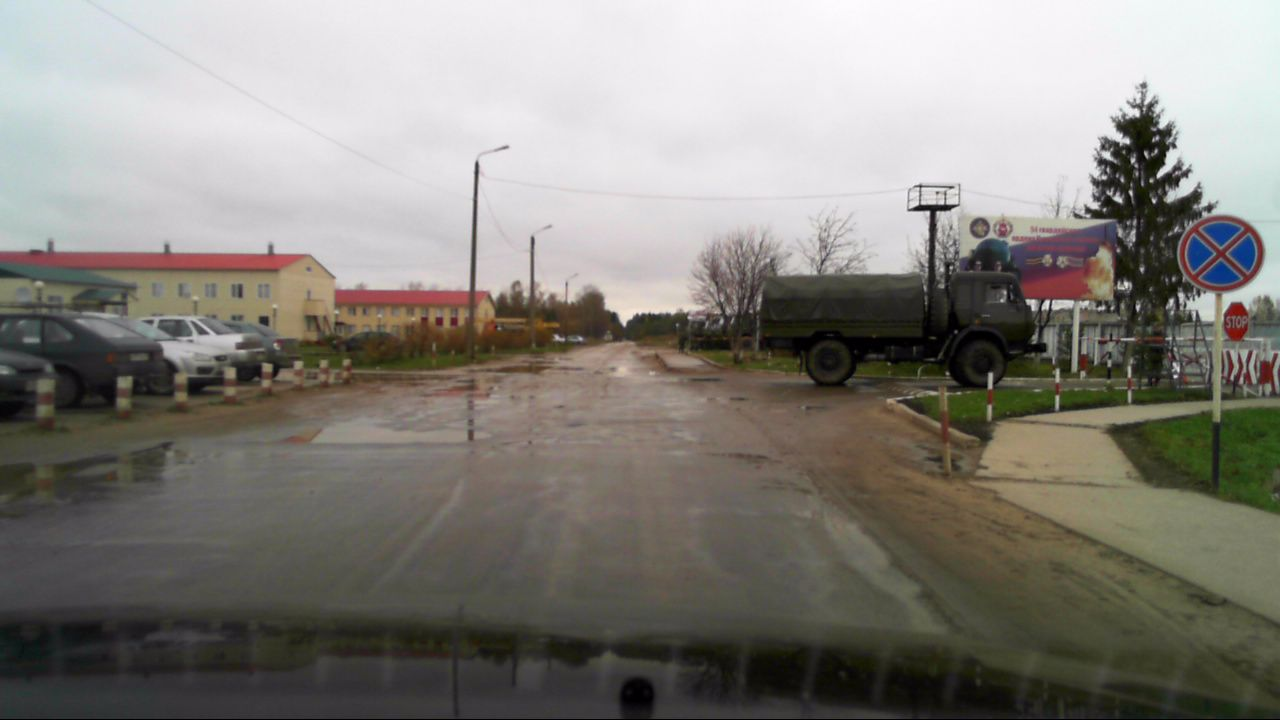No Parking: (1179, 211, 1264, 293)
